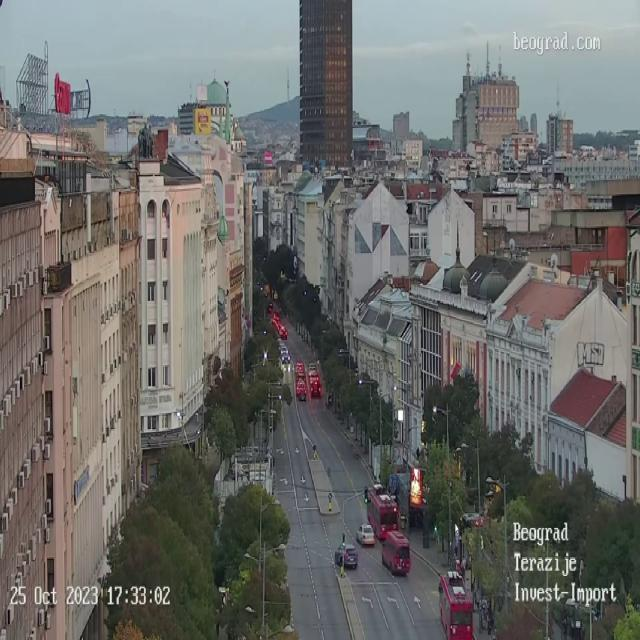bus: (438, 570, 474, 639), (368, 483, 398, 537), (382, 528, 409, 573)
car: (334, 543, 358, 569), (356, 523, 375, 546), (310, 381, 322, 401), (294, 382, 306, 401), (296, 371, 306, 385), (309, 367, 317, 381), (281, 353, 289, 364)
